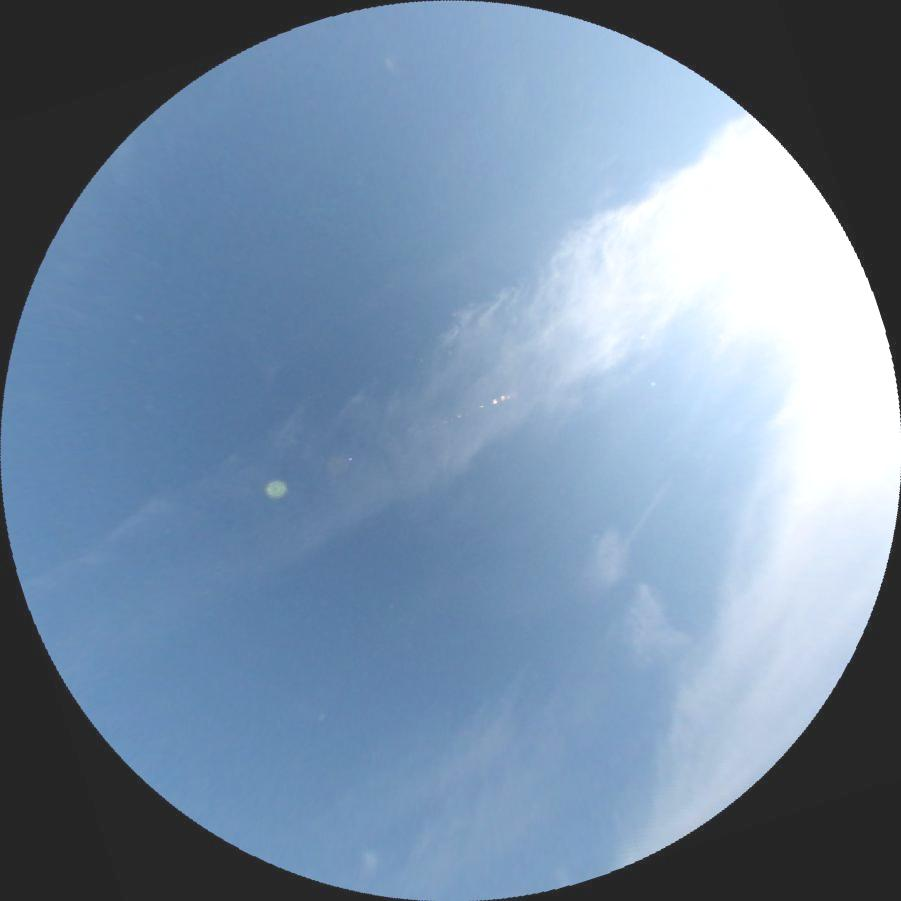contrail veryold: (195, 116, 820, 594), (559, 522, 692, 676)
unknow: (617, 486, 665, 552)
